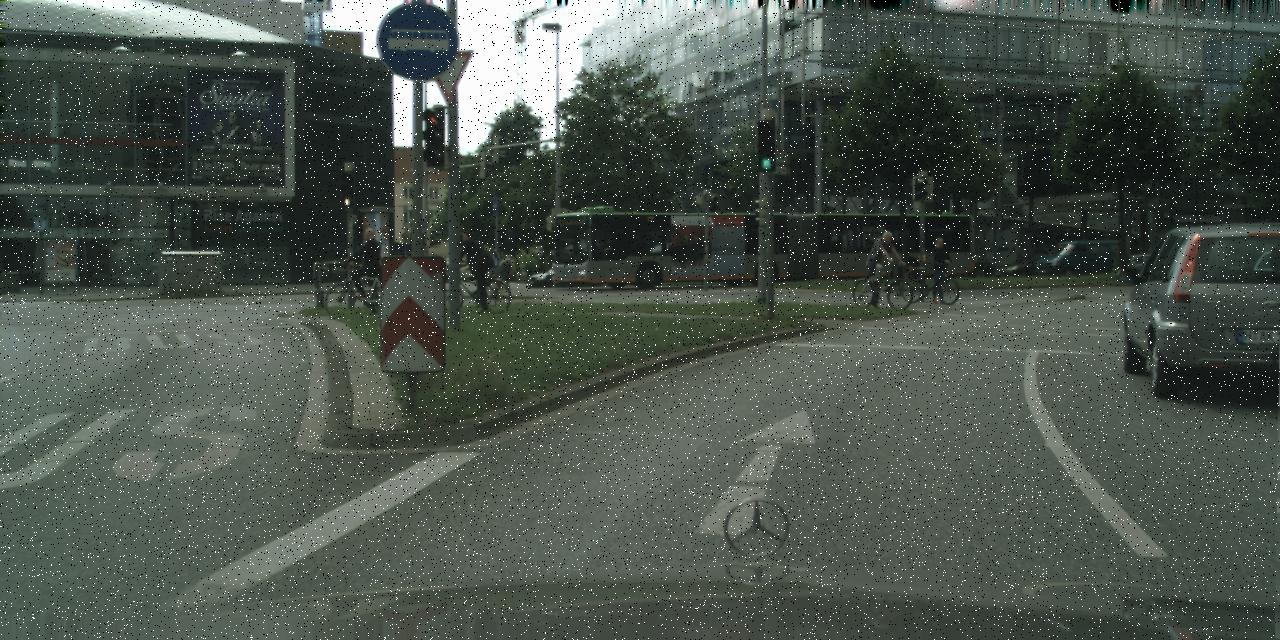ped: (354, 227, 385, 305), (458, 231, 489, 308), (866, 230, 895, 302), (925, 236, 951, 302), (500, 254, 512, 286)
